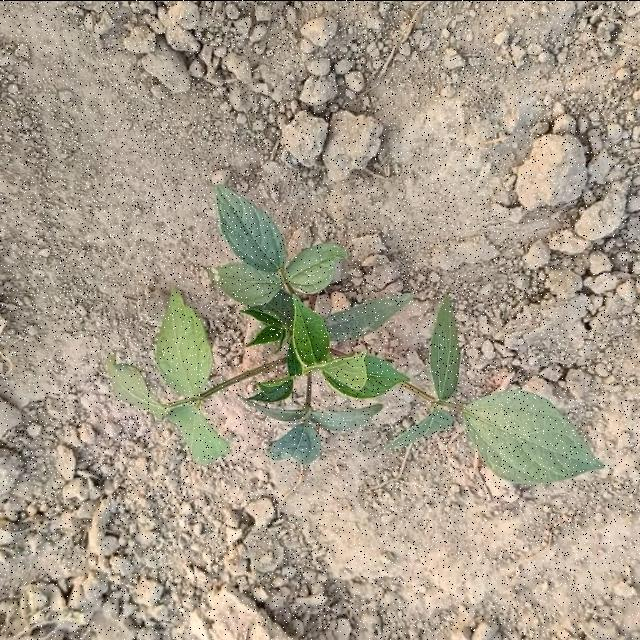plant: (215, 185, 604, 482), (107, 290, 288, 462), (245, 372, 380, 463)
